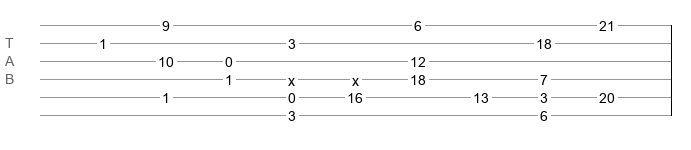0: (225, 54, 233, 64), (288, 90, 296, 100)
1: (99, 36, 107, 46), (162, 90, 170, 100), (225, 72, 233, 82)
10: (158, 54, 174, 64)
12: (410, 54, 426, 64)
13: (473, 90, 489, 100)
16: (347, 90, 363, 100)
18: (410, 72, 426, 82), (536, 36, 552, 46)
20: (599, 90, 615, 100)
21: (599, 18, 615, 28)
3: (288, 36, 296, 46), (288, 108, 296, 118), (540, 90, 548, 100)
6: (414, 18, 422, 28), (540, 108, 548, 118)
7: (540, 72, 548, 82)
9: (162, 18, 170, 28)
x: (288, 73, 295, 81), (352, 73, 359, 81)
